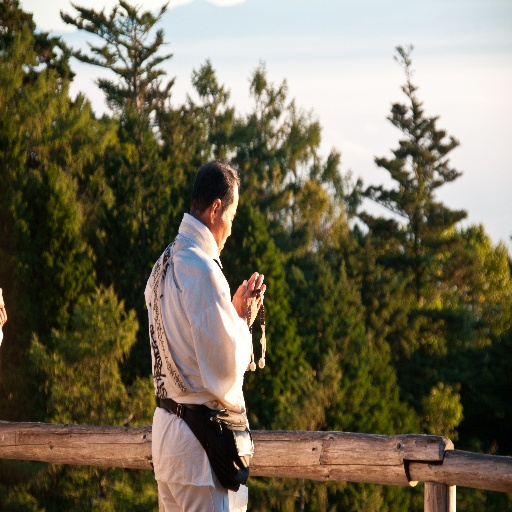hand: (232, 270, 264, 304)
